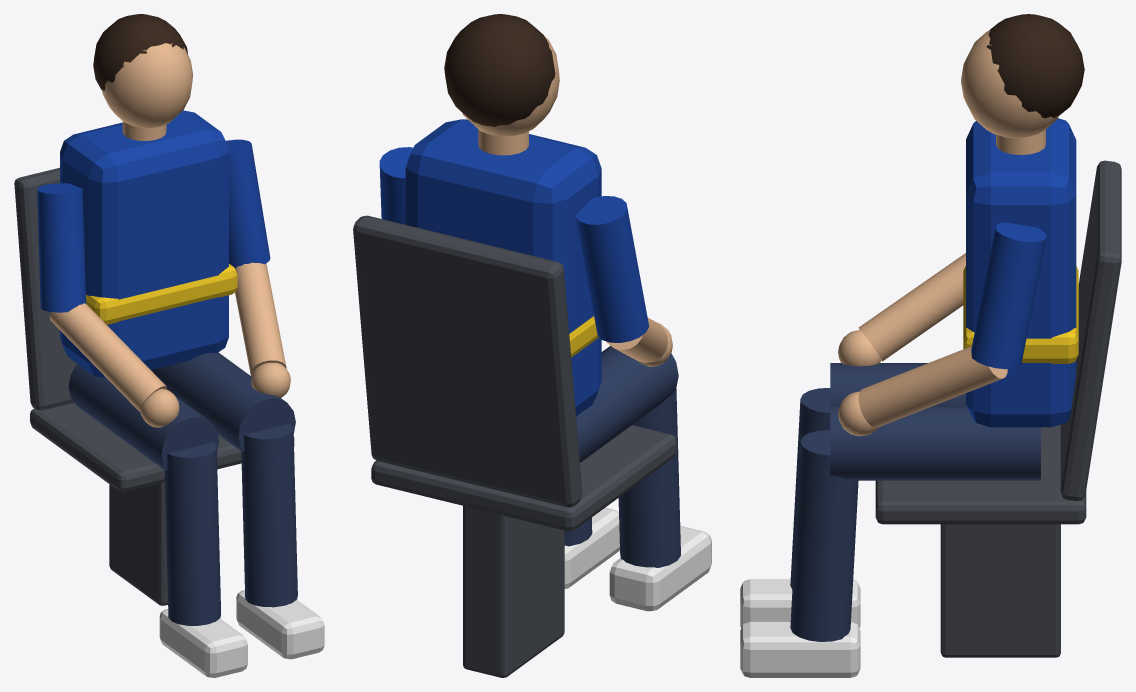
The model's file is aficionado_visita.obj.
The picture shows the model from 3 angles, left to right: view 1: azimuth 30°, elevation 25°; view 2: azimuth 150°, elevation 25°; view 3: azimuth 270°, elevation 25°; orthographic projection. The views are drawn at different scales.
Parts seen in each view (by area): view 1: aficionado_visita; view 2: aficionado_visita; view 3: aficionado_visita.
Part boxes in pixels (x1=…): aficionado_visita: x1=14, y1=14, x2=324, y2=677; aficionado_visita: x1=353, y1=14, x2=711, y2=677; aficionado_visita: x1=740, y1=14, x2=1121, y2=677.
Size of the model in its own units: 0.5837 by 1.39 by 0.7609.
Materials: 1 (1 with a texture image).
